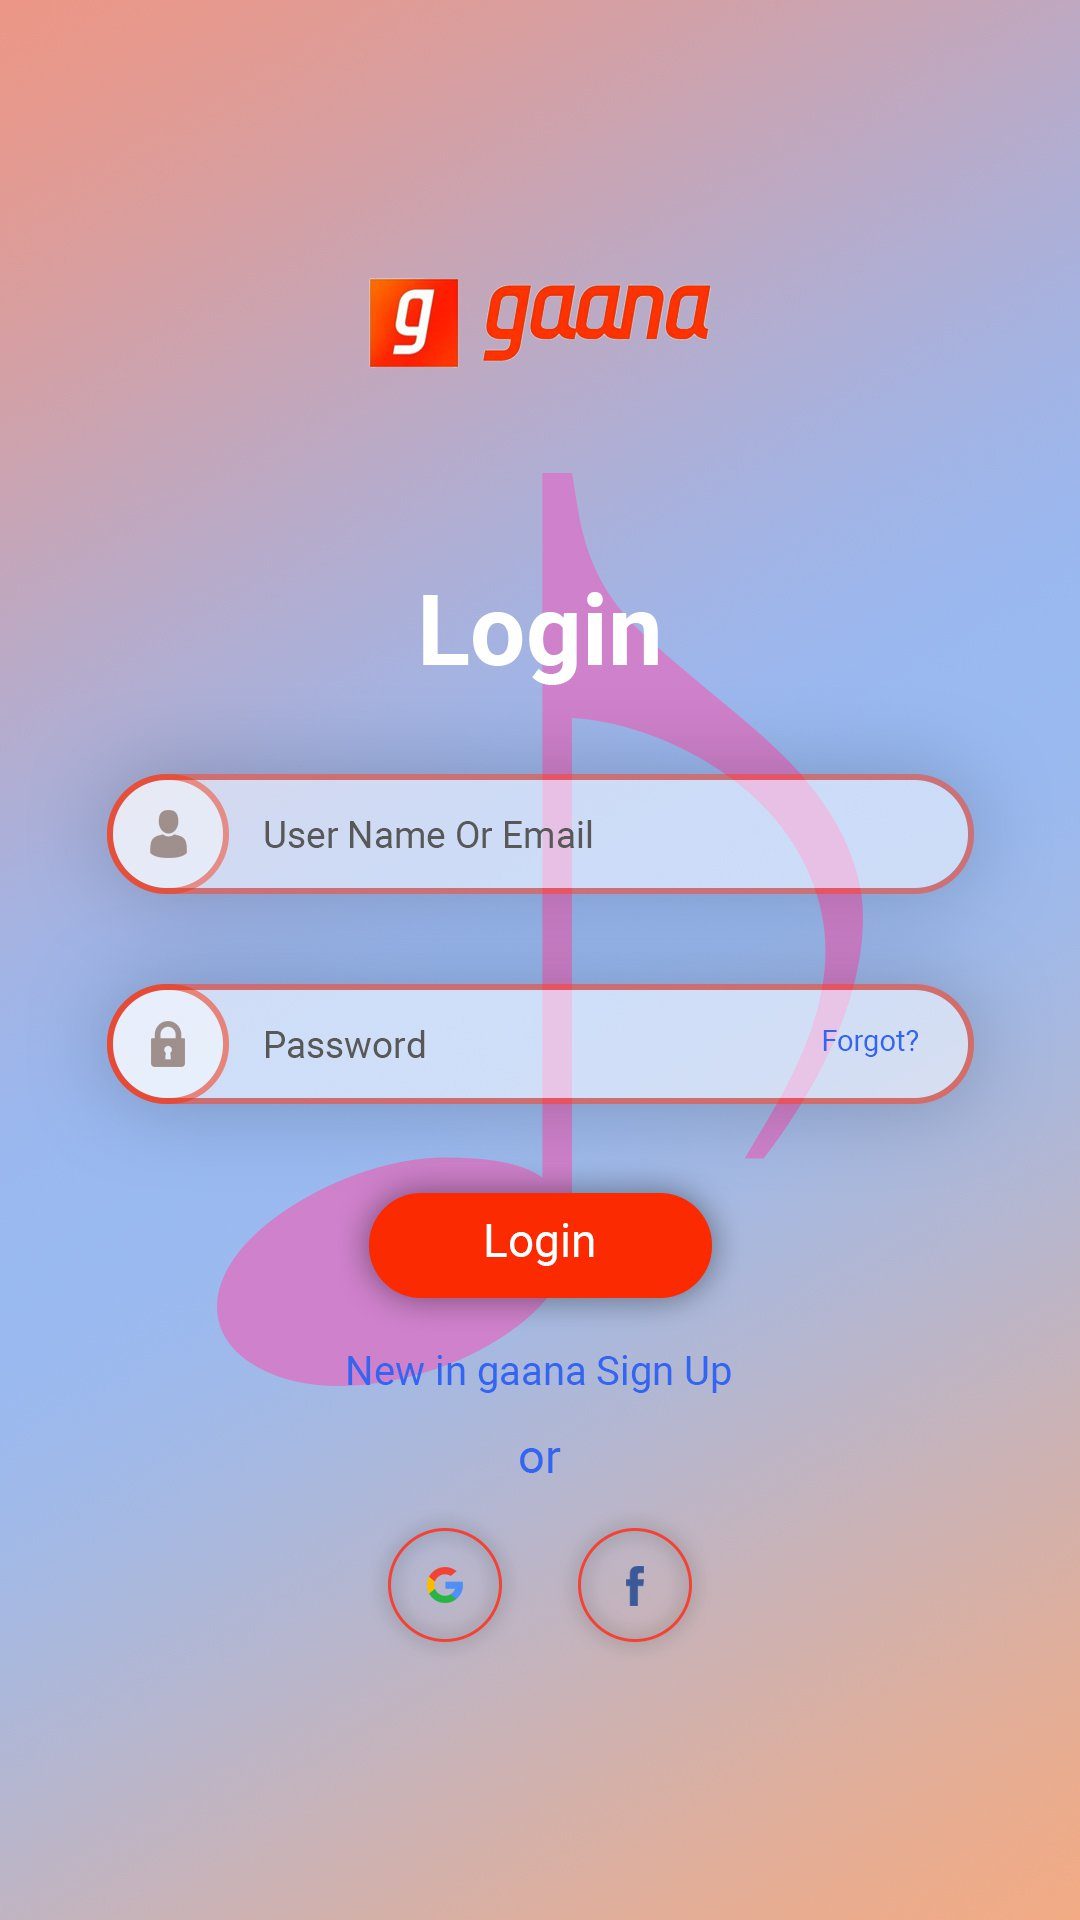BackgroundImage: (1, 3, 1080, 1920)
EditText: (107, 774, 975, 895), (108, 984, 975, 1105)
Icon: (578, 1528, 694, 1643), (388, 1528, 502, 1643), (150, 810, 189, 858), (152, 1021, 186, 1068)
Image: (369, 280, 711, 369)
Text: (423, 592, 659, 686), (348, 1354, 732, 1394), (266, 820, 593, 849), (266, 1030, 425, 1059), (824, 1030, 919, 1058), (520, 1448, 560, 1474)
TextButton: (369, 1192, 713, 1299)
